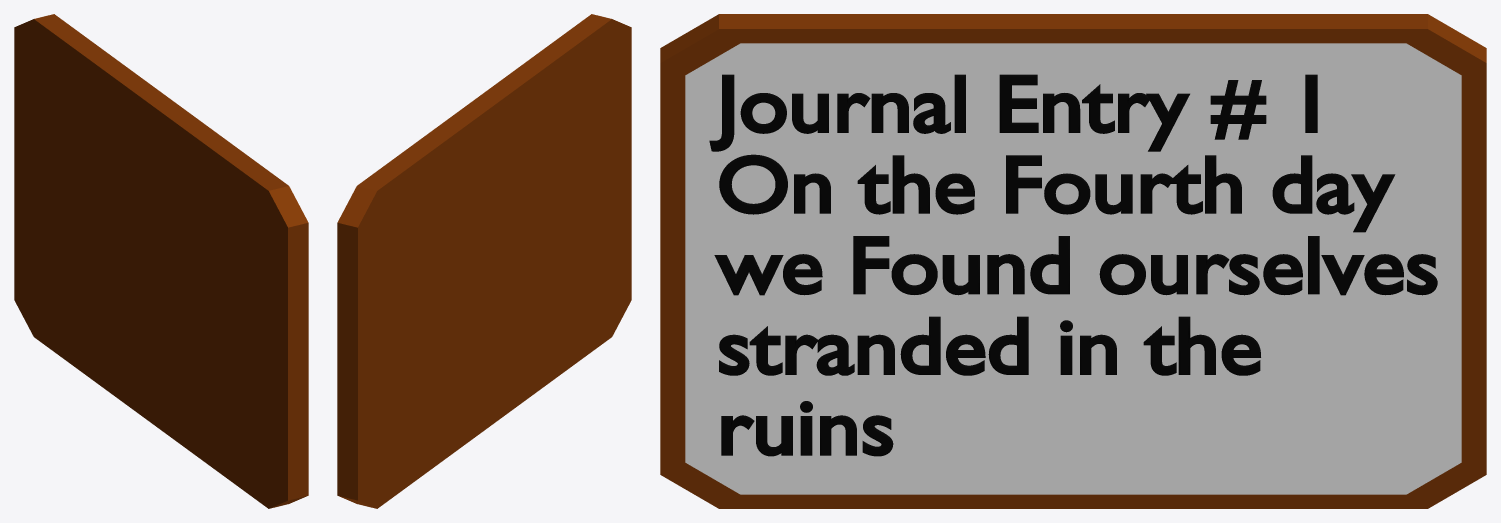
Rendered from CODE 1.fbx.
3 renders of one model, left to right at view 1: azimuth 30°, elevation 25°; view 2: azimuth 150°, elevation 25°; view 3: azimuth 270°, elevation 25°, orthographic. The views are drawn at different scales.
Visible parts, largest first — view 1: sign Text; view 2: sign Text; view 3: sign Text.
Boxes of the visible parts, x1=… form: sign Text: x1=14, y1=14, x2=308, y2=508; sign Text: x1=337, y1=14, x2=631, y2=508; sign Text: x1=660, y1=14, x2=1486, y2=508.
Bounding box in the file's own units: 3.89 × 53.4 × 83.29.
